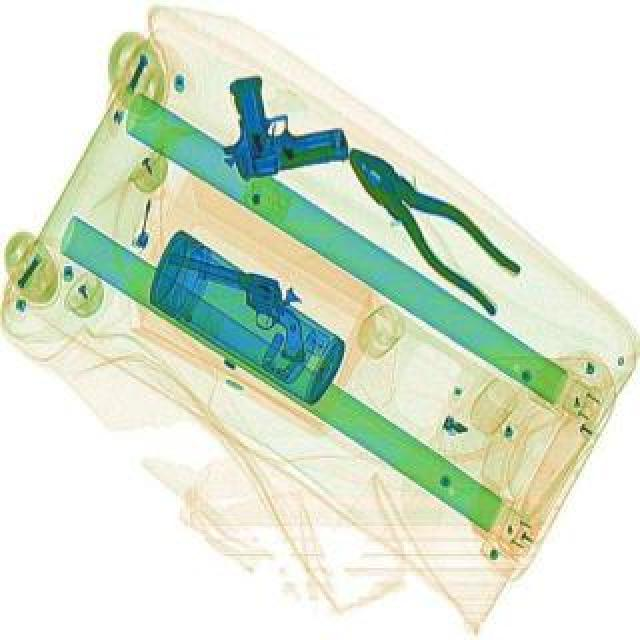gun: (150, 250, 332, 362), (210, 58, 354, 182)
wrench: (328, 130, 540, 316)
